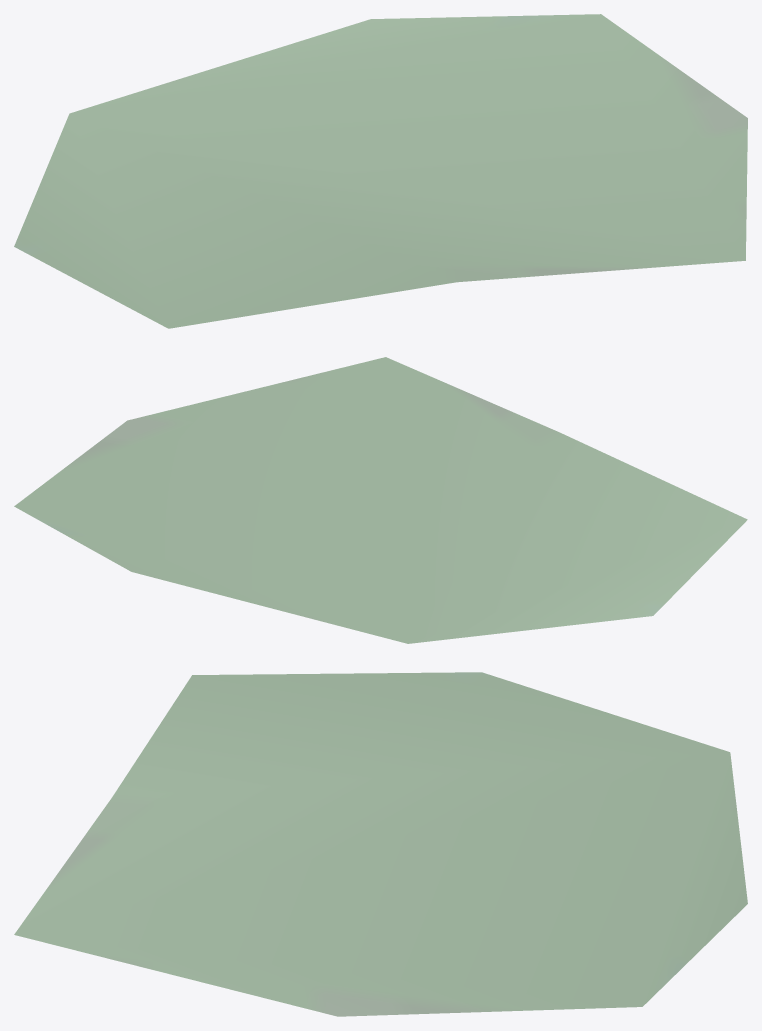
Rendered from TROLLHOLE02_HOLECAP43.fbx.
3 renders of one model, top to bottom at view 1: azimuth 30°, elevation 25°; view 2: azimuth 150°, elevation 25°; view 3: azimuth 270°, elevation 25°, orthographic. The views are drawn at different scales.
Visible parts, largest first — view 1: TROLLHOLE02_HOLECAP43; view 2: TROLLHOLE02_HOLECAP43; view 3: TROLLHOLE02_HOLECAP43.
Part boxes in pixels (<box>): TROLLHOLE02_HOLECAP43: <box>14,14,747,328</box>; TROLLHOLE02_HOLECAP43: <box>14,357,747,643</box>; TROLLHOLE02_HOLECAP43: <box>14,672,747,1016</box>.
Bounding box in the file's own units: 22482 × 724 × 19420.
1 material, 1 textured.
